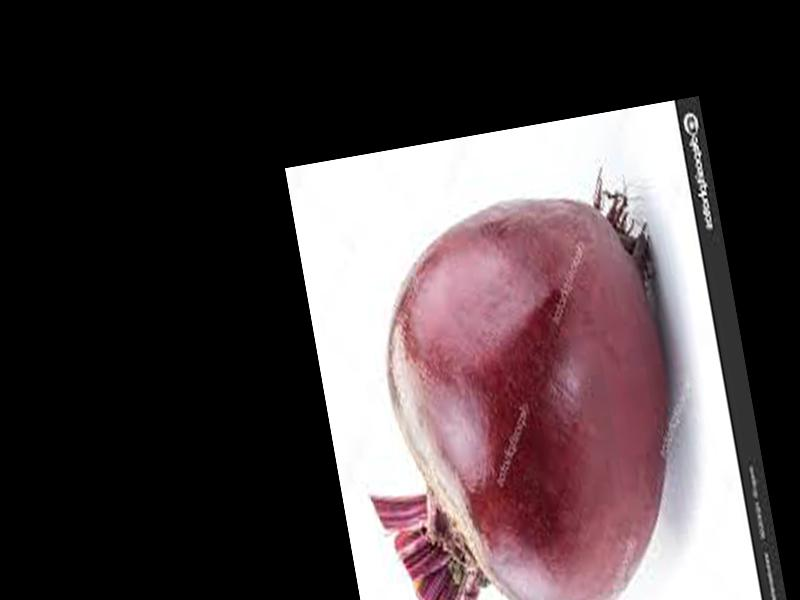Beet: (328, 181, 707, 600)
